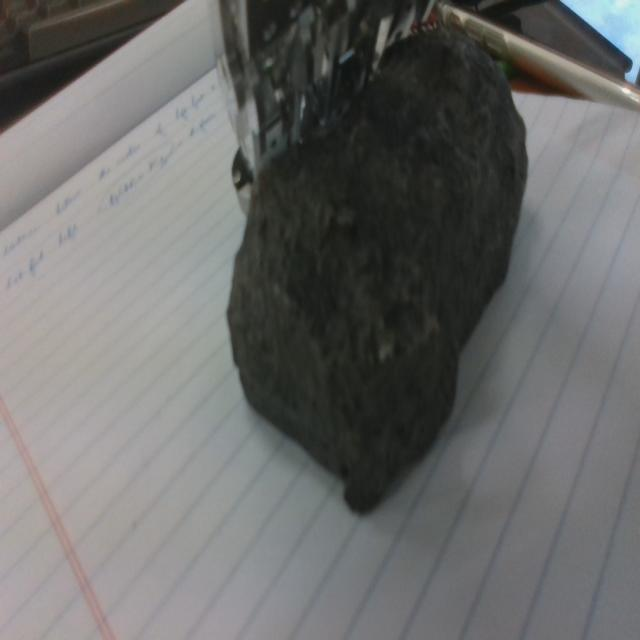stone: (227, 31, 528, 514)
